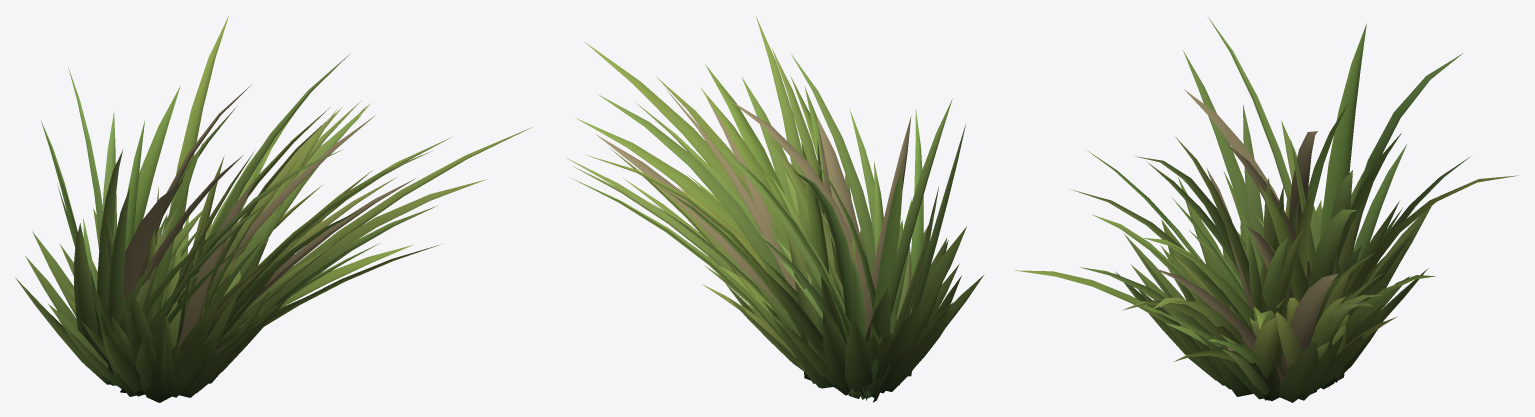
File: eco_grass_tuft_short_LOD0.glb
3 views of the same model, side by side, from view 1: azimuth 30°, elevation 25°; view 2: azimuth 150°, elevation 25°; view 3: azimuth 270°, elevation 25° (orthographic). The views are drawn at different scales.
Visible parts, largest first — view 1: eco_grass_tuft_short_LOD0; view 2: eco_grass_tuft_short_LOD0; view 3: eco_grass_tuft_short_LOD0.
Boxes of the visible parts, bbox=[...] form: eco_grass_tuft_short_LOD0: bbox=[15, 16, 532, 402]; eco_grass_tuft_short_LOD0: bbox=[566, 15, 984, 402]; eco_grass_tuft_short_LOD0: bbox=[1014, 16, 1519, 402].
Bounding box in the file's own units: 0.3935 × 0.2295 × 0.324.
